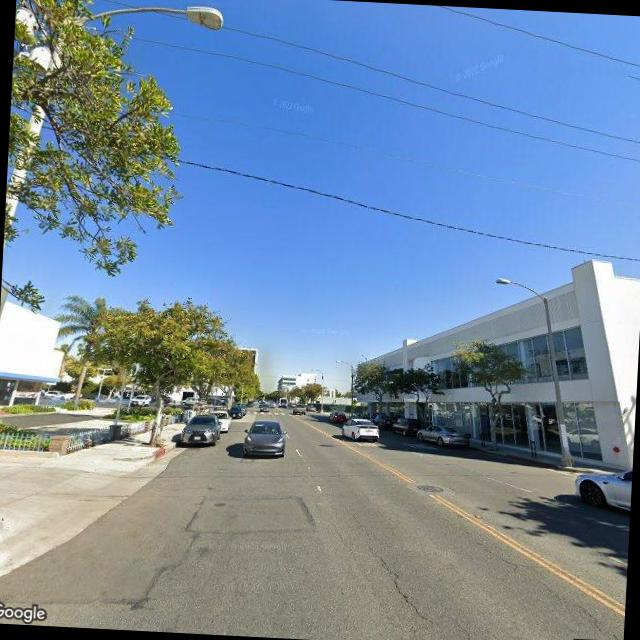pothole: (341, 512, 443, 626)
